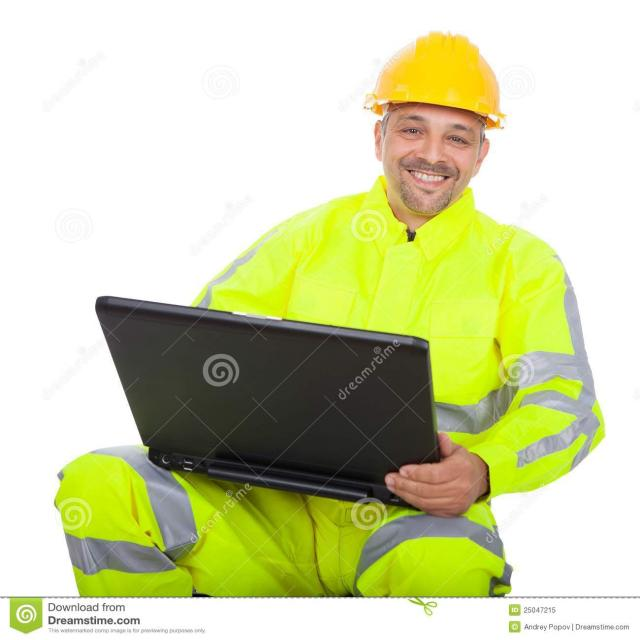Reflective-Jacket: (195, 188, 602, 572), (52, 453, 547, 594), (55, 448, 203, 596)
Safety-Helmet: (362, 28, 508, 125)
